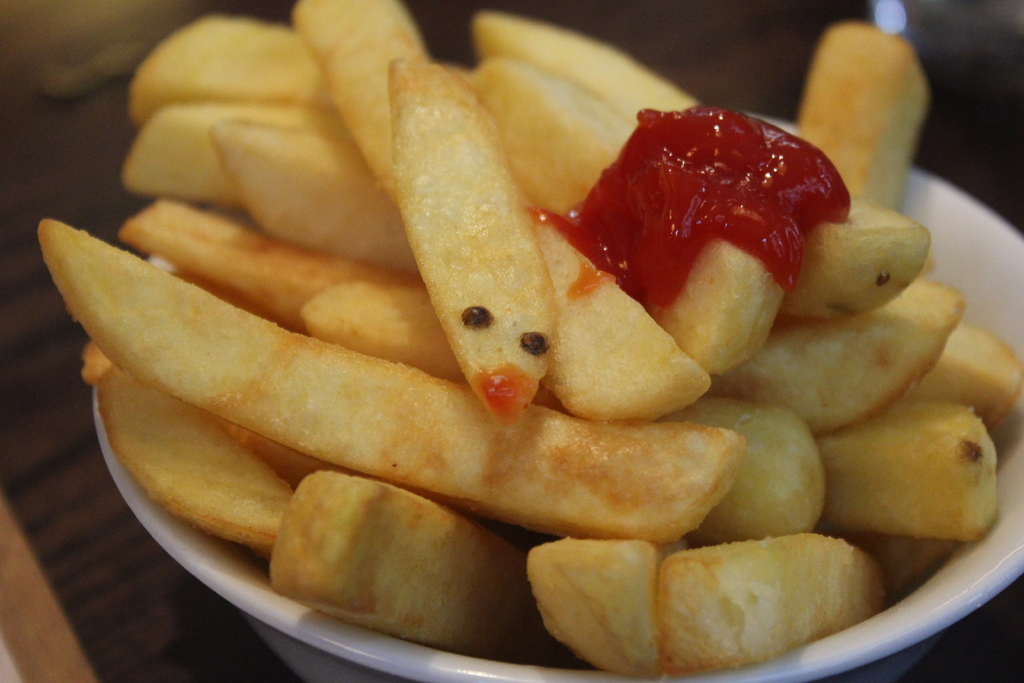French fries: (31, 0, 1023, 682)
